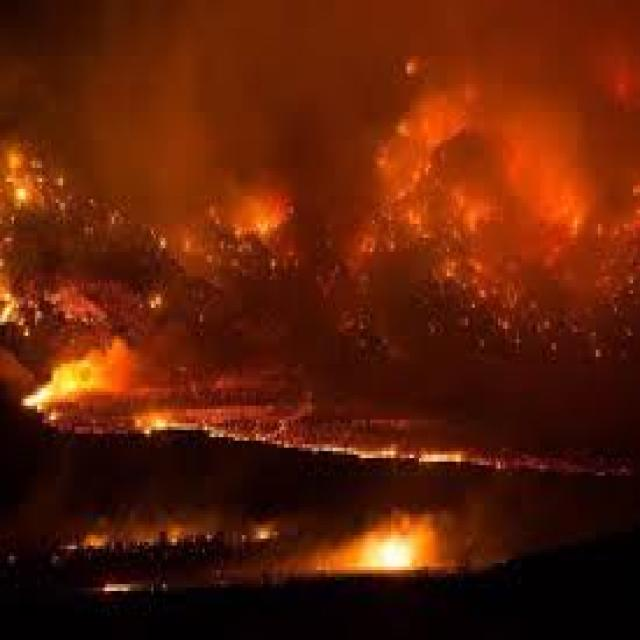Fire: (18, 356, 86, 418), (364, 530, 417, 583)
